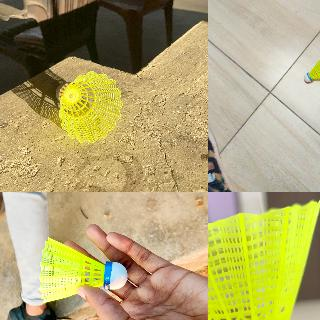shuttlecock: (208, 198, 319, 319), (39, 237, 127, 303), (56, 70, 122, 142), (302, 58, 319, 85)
